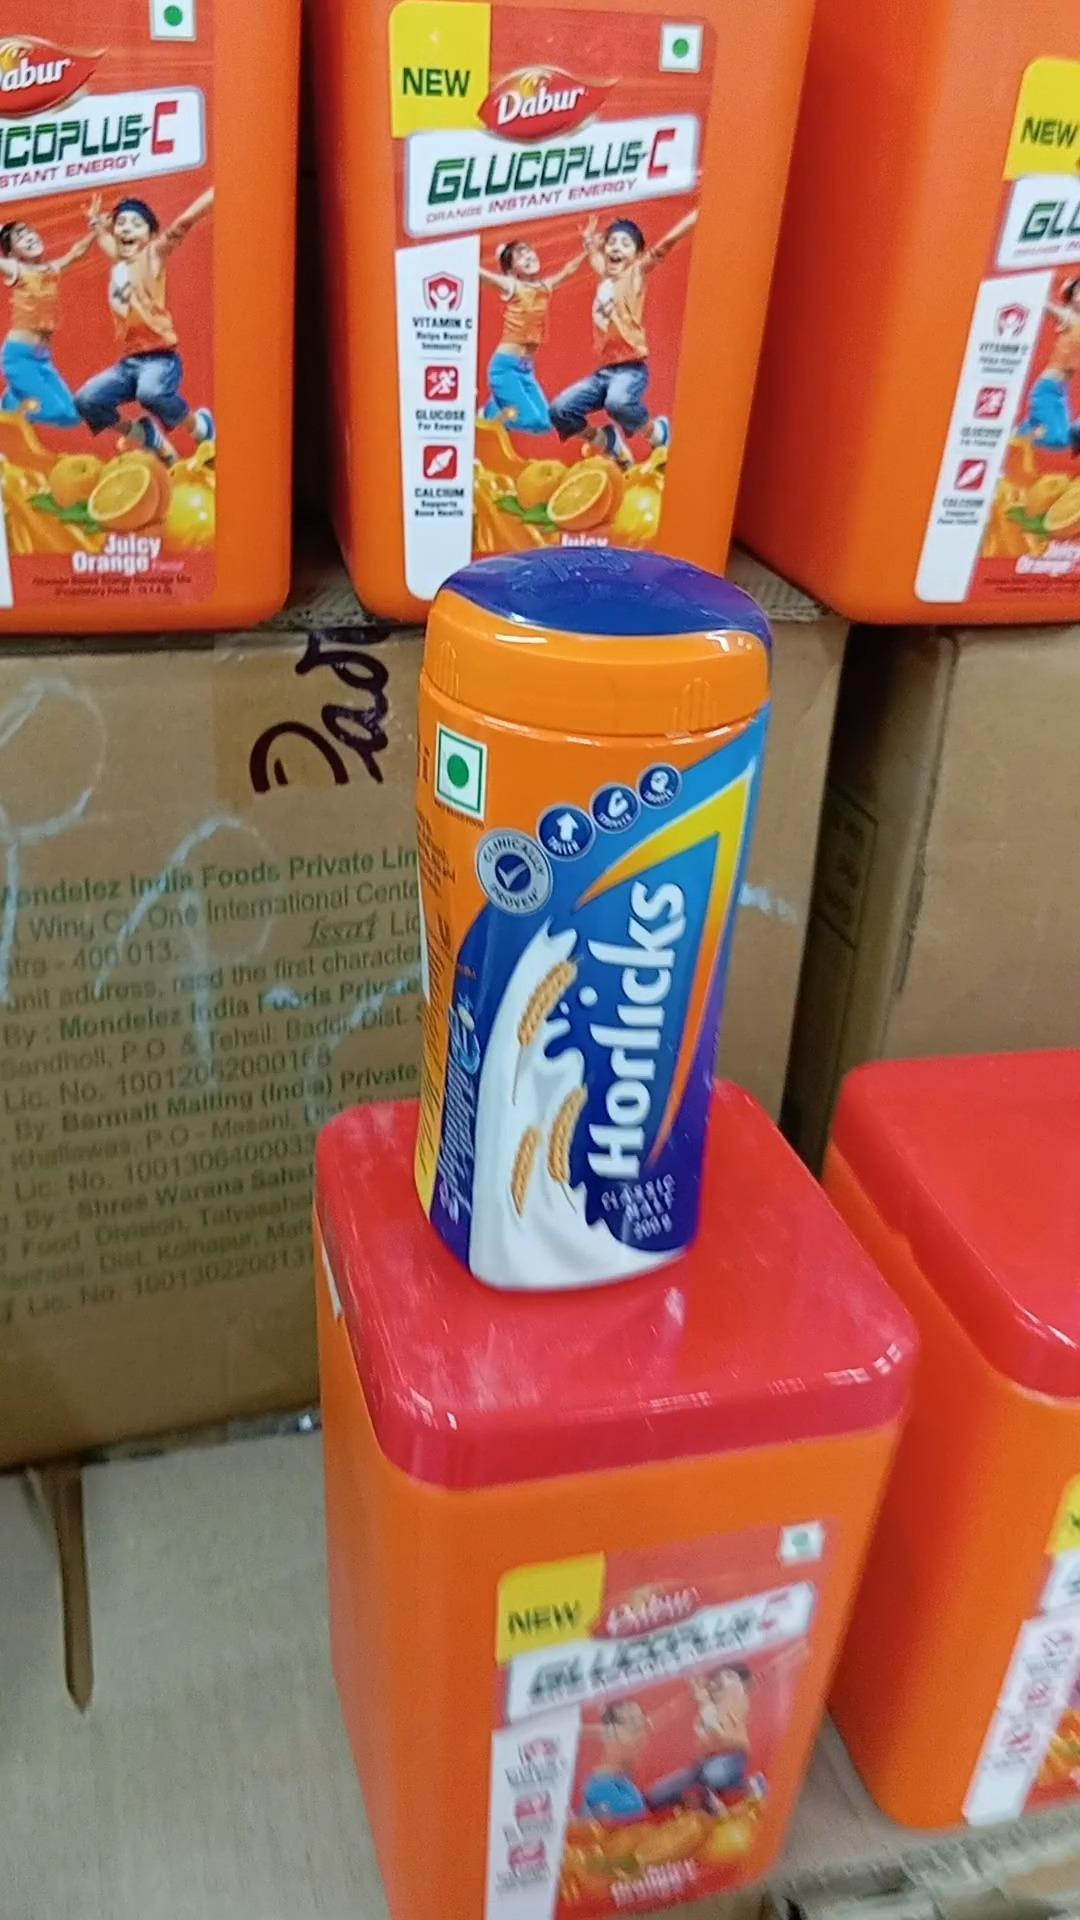HORLICK_CLASSIC_MALT_200_G_JAR: (422, 595, 727, 1284)
